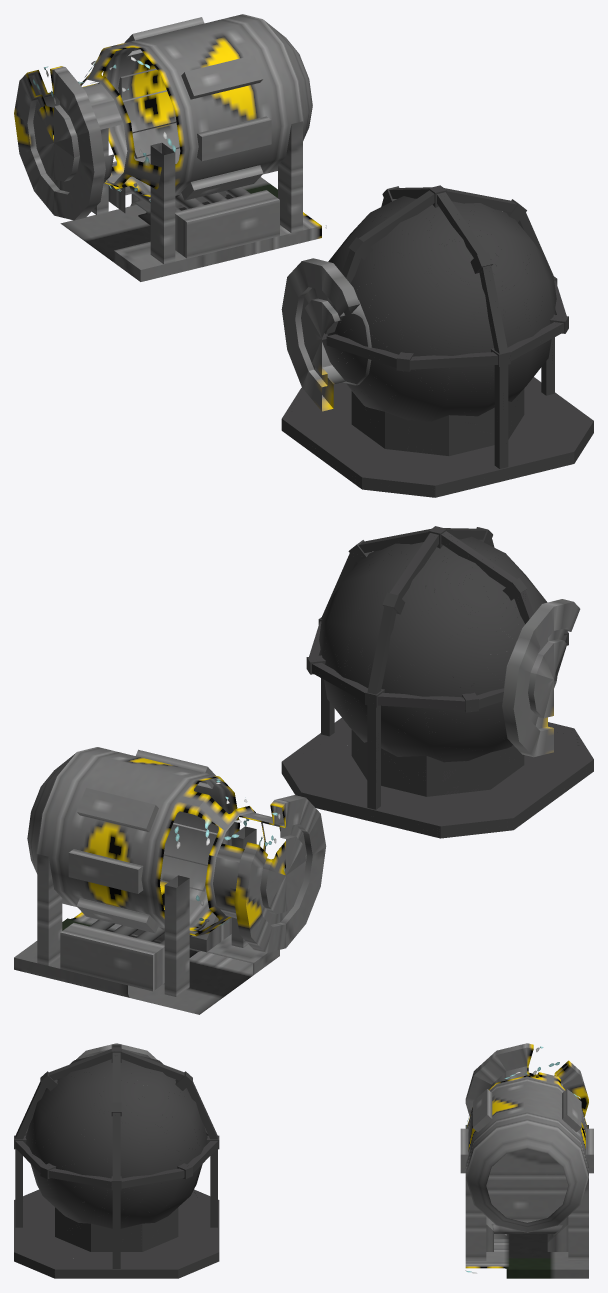
Rendered from breeder.obj.
3 renders of one model, top to bottom at view 1: azimuth 30°, elevation 25°; view 2: azimuth 150°, elevation 25°; view 3: azimuth 270°, elevation 25°, orthographic. The views are drawn at different scales.
Visible parts, largest first — view 1: BreederAlt, Breeder; view 2: BreederAlt, Breeder; view 3: BreederAlt, Breeder.
Boxes of the visible parts, x1,y1,x2,y2 form: BreederAlt: (281,185,593,497); Breeder: (14,14,326,281); BreederAlt: (281,526,593,838); Breeder: (14,747,326,1014); BreederAlt: (14,1043,219,1278); Breeder: (460,1043,593,1278).
Size of the model in its own units: 5 by 5 by 14.12.
